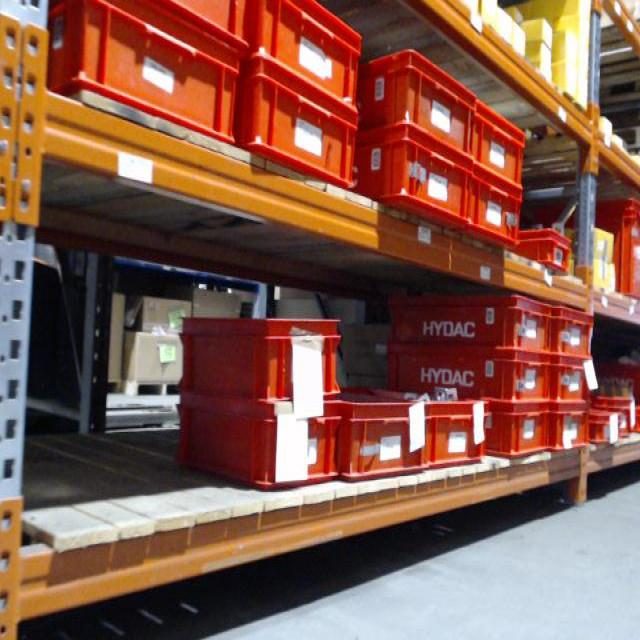pallet: (129, 379, 196, 400)
small_load_carrier: (46, 5, 237, 153), (235, 71, 359, 196), (177, 398, 340, 493), (242, 2, 368, 121), (177, 315, 342, 402), (359, 44, 478, 161), (359, 131, 475, 238), (526, 193, 638, 298), (334, 376, 424, 490), (386, 295, 556, 355), (100, 1, 244, 66), (390, 354, 553, 411), (392, 382, 487, 477), (466, 89, 529, 192), (467, 172, 525, 257), (484, 409, 551, 468), (540, 360, 598, 412), (551, 307, 599, 365), (548, 406, 597, 456), (519, 230, 571, 277), (596, 392, 634, 439), (603, 364, 639, 406), (590, 408, 621, 448), (634, 404, 640, 433)
